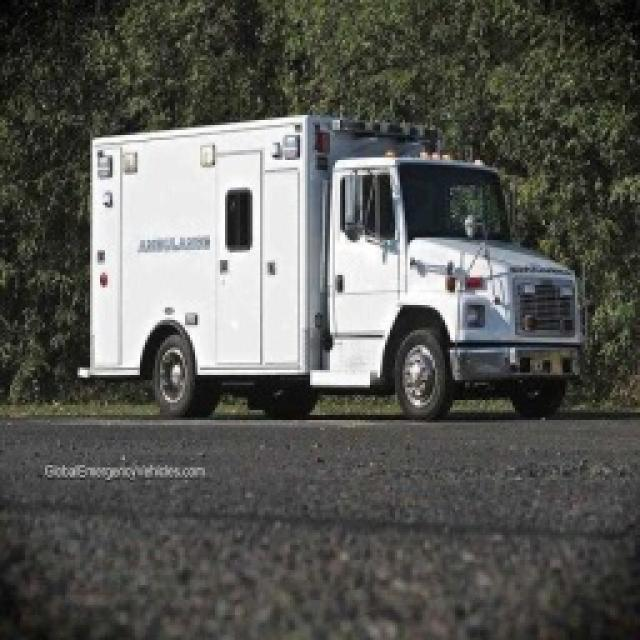emergency-vehicle: (77, 108, 583, 420)
